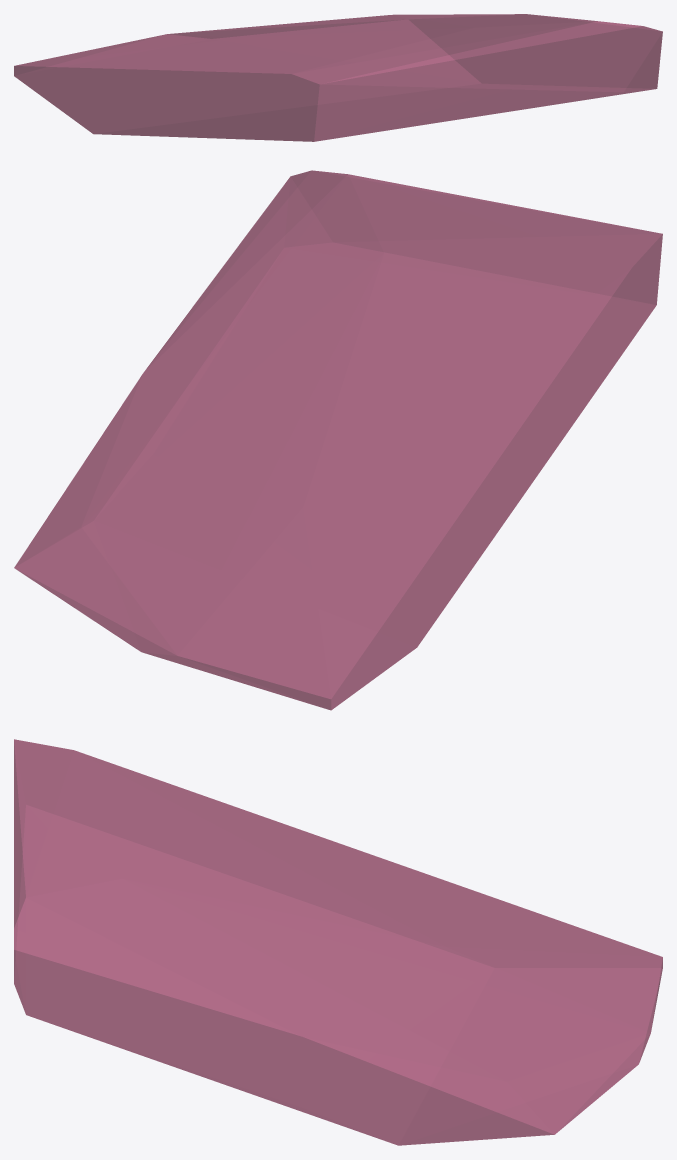
The picture shows the model from 3 angles, top to bottom: view 1: azimuth 30°, elevation 25°; view 2: azimuth 150°, elevation 25°; view 3: azimuth 270°, elevation 25°; orthographic projection. The views are drawn at different scales.
Visible parts, largest first — view 1: Shape_IndexedFaceSet.072_Shape_IndexedFaceSet.4626; view 2: Shape_IndexedFaceSet.072_Shape_IndexedFaceSet.4626; view 3: Shape_IndexedFaceSet.072_Shape_IndexedFaceSet.4626.
Part boxes in pixels (<box>): Shape_IndexedFaceSet.072_Shape_IndexedFaceSet.4626: <box>14,14,662,141</box>; Shape_IndexedFaceSet.072_Shape_IndexedFaceSet.4626: <box>14,170,662,710</box>; Shape_IndexedFaceSet.072_Shape_IndexedFaceSet.4626: <box>14,739,662,1145</box>.
Size of the model in its own units: 0.0532 by 0.0319 by 0.082.
